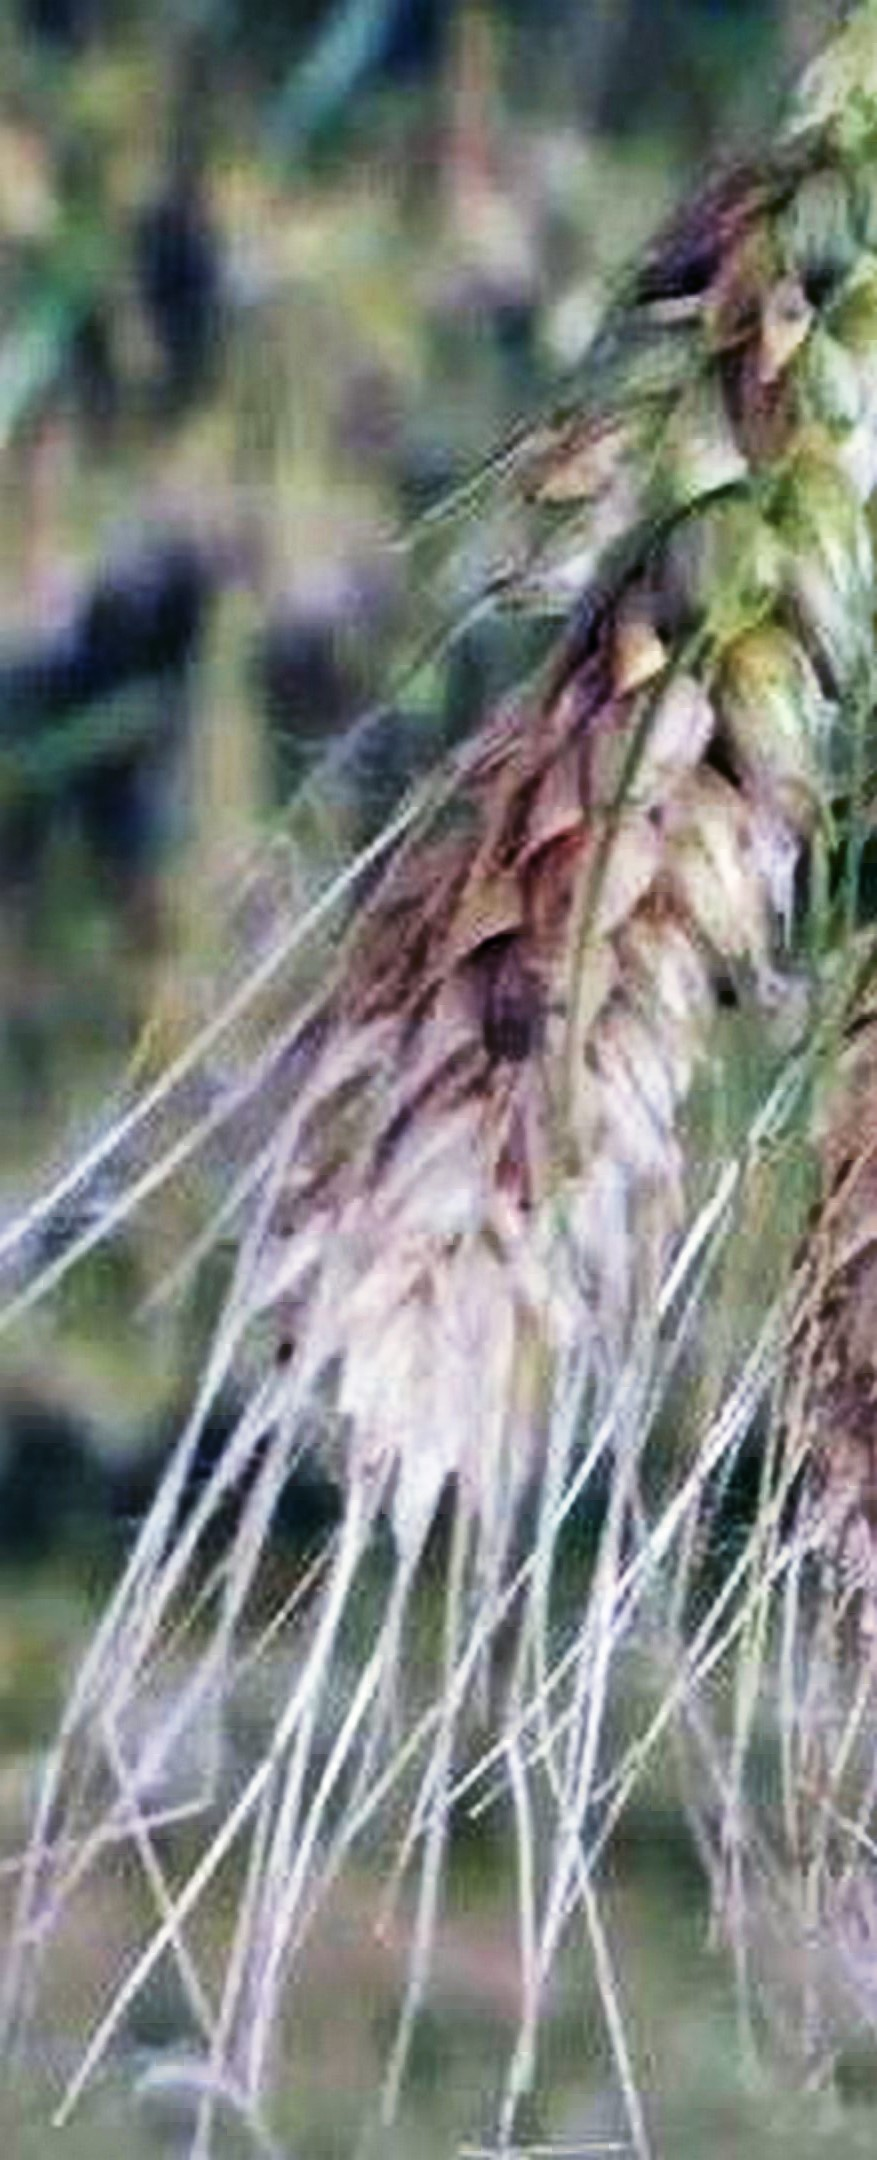Wheat scab: (223, 62, 877, 1503)
